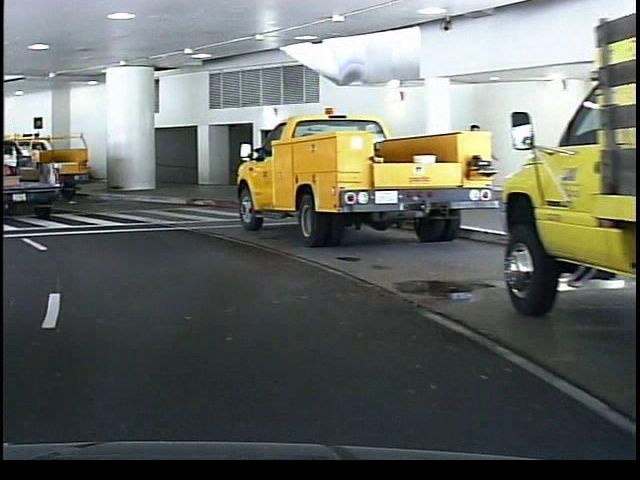person: (457, 115, 489, 215)
